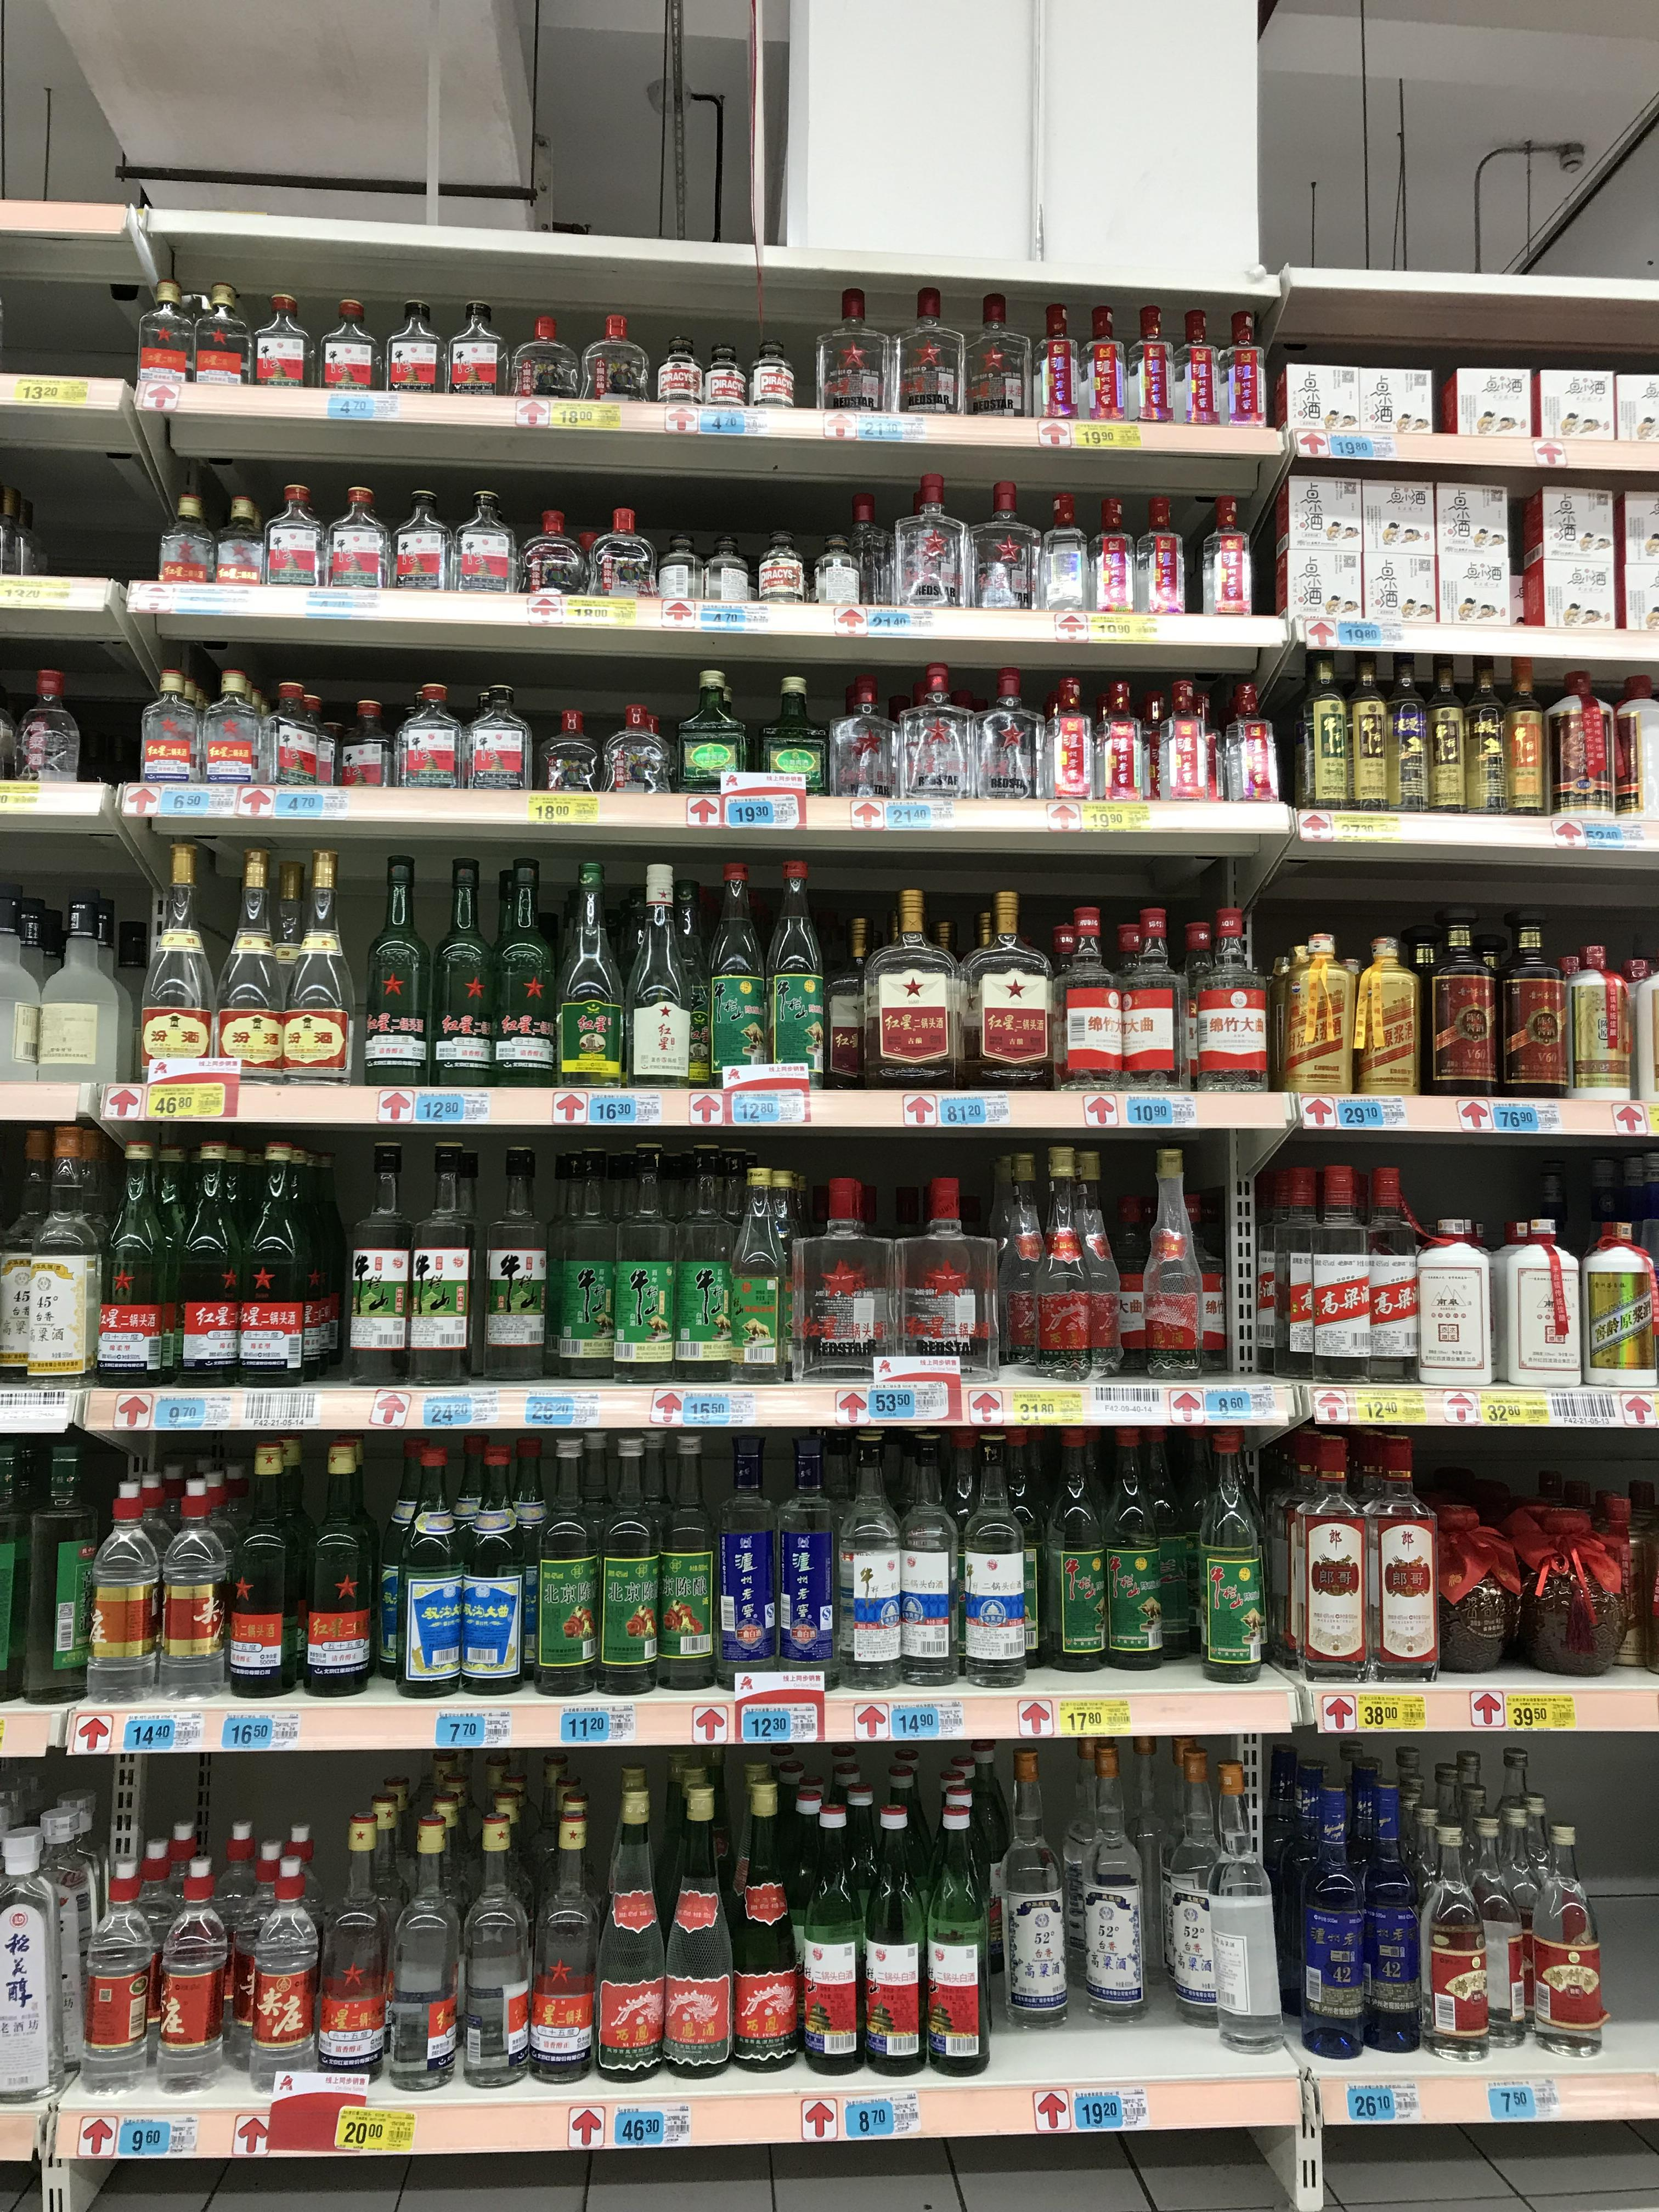bag: (1511, 1503, 1614, 1679), (1136, 493, 1190, 622), (450, 495, 518, 594), (319, 296, 378, 401), (380, 303, 443, 399)
bottle: (10, 1122, 106, 1386), (17, 1425, 106, 1703), (378, 1818, 465, 2094), (657, 1789, 735, 2083), (1351, 1780, 1434, 2055), (723, 1789, 803, 2074), (240, 1143, 335, 1385), (1201, 1770, 1281, 2048), (451, 1817, 533, 2088), (1188, 1420, 1272, 1681), (526, 1810, 605, 2085), (92, 1136, 178, 1388), (793, 1794, 868, 2078), (225, 1449, 308, 1702), (857, 1792, 931, 2078), (526, 1428, 603, 1698), (1295, 1782, 1370, 2057), (957, 1425, 1035, 1686), (314, 1818, 390, 2085), (920, 1789, 992, 2074), (594, 1797, 666, 2083), (1159, 1752, 1236, 2015), (1101, 1421, 1182, 1672), (385, 1442, 464, 1698), (300, 1444, 378, 1698), (1286, 1442, 1368, 1684), (169, 1136, 247, 1388), (999, 1754, 1072, 2024), (1072, 1747, 1145, 2017), (0, 1824, 71, 2095), (831, 1432, 904, 1695), (1100, 1743, 1171, 2010), (1359, 1444, 1438, 1684), (277, 857, 359, 1087), (1530, 1824, 1612, 2050), (592, 1430, 662, 1695), (152, 1860, 232, 2090), (342, 1134, 416, 1378), (1047, 1420, 1119, 1674), (652, 1425, 720, 1691), (451, 1446, 523, 1698), (80, 1850, 157, 2083), (361, 862, 439, 1090), (542, 1141, 617, 1379), (474, 1139, 547, 1383), (1413, 1824, 1488, 2060), (404, 1143, 477, 1385), (85, 1480, 164, 1703), (549, 866, 627, 1089), (626, 867, 704, 1087), (870, 892, 953, 1094), (772, 1432, 836, 1693), (894, 1428, 958, 1689), (605, 1146, 676, 1381), (159, 1484, 239, 1693), (1032, 1148, 1105, 1374), (666, 1150, 737, 1381), (249, 1841, 319, 2078), (38, 888, 124, 1082), (430, 859, 502, 1089), (760, 855, 830, 1090), (214, 855, 286, 1083), (1136, 1151, 1208, 1378), (143, 850, 213, 1080), (967, 897, 1049, 1092), (1560, 1501, 1649, 1679), (488, 862, 558, 1089), (1427, 1501, 1516, 1676), (1473, 1811, 1537, 2050), (702, 860, 769, 1087), (725, 1163, 795, 1378), (1358, 1160, 1425, 1378), (798, 1181, 873, 1374), (903, 1177, 978, 1369), (1197, 911, 1270, 1094), (993, 1153, 1054, 1367), (1424, 920, 1497, 1097), (1492, 921, 1565, 1096), (1312, 1167, 1371, 1379), (1115, 913, 1180, 1094), (1103, 1170, 1159, 1369), (1058, 913, 1119, 1094), (3, 885, 58, 1083), (1291, 939, 1358, 1099), (814, 892, 866, 1090), (1356, 942, 1422, 1094), (892, 477, 967, 610), (1279, 1176, 1328, 1378), (1241, 1184, 1291, 1374), (673, 669, 746, 798), (899, 676, 972, 803), (1551, 671, 1612, 820), (965, 489, 1039, 611), (1272, 937, 1326, 1099), (972, 678, 1040, 805), (1568, 951, 1628, 1096), (831, 676, 899, 801), (899, 286, 962, 421), (14, 667, 80, 794), (1464, 653, 1514, 817), (1302, 646, 1352, 810), (762, 678, 828, 801), (1420, 651, 1471, 813), (1500, 657, 1551, 817), (1349, 653, 1399, 810), (1387, 650, 1434, 812), (967, 289, 1025, 420), (139, 671, 204, 784), (200, 678, 268, 784), (1608, 685, 1657, 822), (134, 279, 193, 383), (1079, 294, 1126, 425), (1040, 296, 1087, 425), (192, 282, 247, 390), (251, 293, 308, 395), (1218, 305, 1263, 432), (1131, 307, 1173, 427), (1182, 310, 1223, 428)
box: (660, 1430, 716, 1696), (1534, 482, 1615, 631), (1291, 475, 1366, 611), (1441, 479, 1506, 617), (1040, 676, 1100, 808), (1378, 481, 1438, 613), (1220, 678, 1279, 808), (1202, 488, 1258, 624), (467, 683, 537, 791), (401, 683, 467, 791), (1363, 477, 1415, 613), (1155, 683, 1213, 805), (444, 300, 516, 397), (1103, 688, 1161, 808), (1258, 479, 1309, 613), (392, 488, 457, 592), (1446, 364, 1535, 439), (518, 505, 586, 599), (518, 315, 587, 406), (1600, 486, 1643, 631), (268, 482, 326, 590), (1335, 373, 1427, 439), (586, 315, 650, 408), (1619, 482, 1657, 634), (1537, 366, 1608, 444), (1288, 364, 1352, 449), (1506, 488, 1547, 618), (340, 698, 397, 787)
jar: (1493, 1223, 1579, 1378), (1412, 1230, 1499, 1379), (1581, 1209, 1647, 1381), (812, 289, 885, 421), (326, 488, 392, 594), (601, 702, 669, 798), (587, 507, 652, 599), (267, 691, 326, 787), (159, 495, 218, 590), (538, 709, 601, 798), (843, 491, 892, 604), (213, 493, 263, 589), (746, 341, 800, 416), (807, 535, 863, 606), (753, 531, 805, 603), (697, 341, 748, 415), (697, 536, 751, 601), (652, 533, 704, 599), (655, 334, 699, 411)
